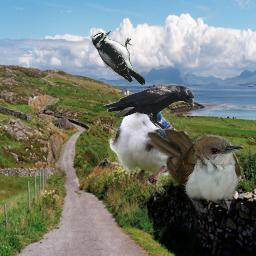Crow: (100, 84, 194, 130)
Cuckoo: (147, 128, 244, 215)
Swallow: (108, 98, 208, 186)
Woodpecker: (92, 31, 145, 85)
